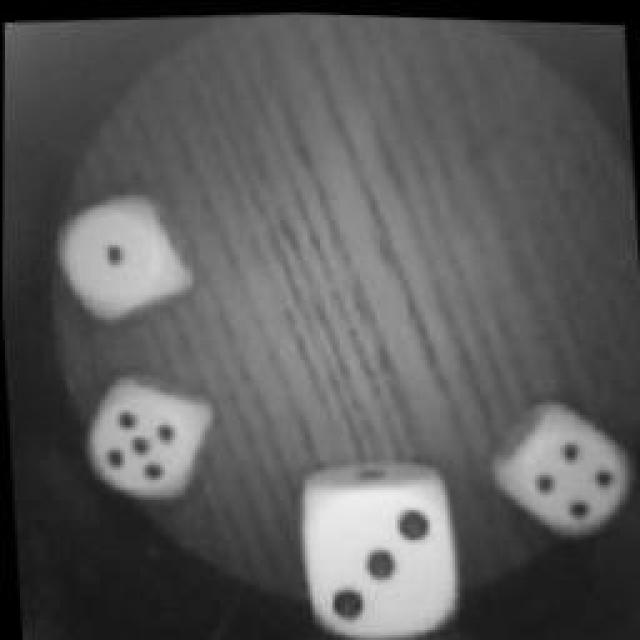dice_1: (51, 191, 181, 321)
dice_3: (291, 452, 464, 638)
dice_4: (494, 393, 638, 535)
dice_5: (80, 370, 210, 508)
